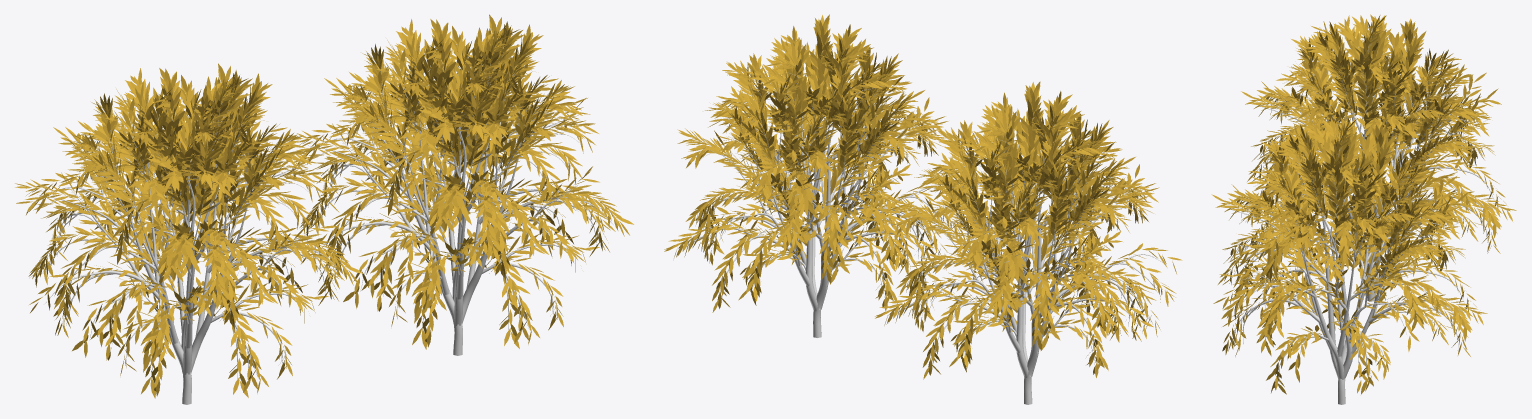
The model's file is villagetreesfbx.fbx.
The picture shows the model from 3 angles, left to right: view 1: azimuth 30°, elevation 25°; view 2: azimuth 150°, elevation 25°; view 3: azimuth 270°, elevation 25°; orthographic projection. The views are drawn at different scales.
Parts seen in each view (by area): view 1: leaves.027, leaves.019, tree.027; view 2: leaves.027, leaves.019, tree.027; view 3: leaves.019, leaves.027, tree.027.
Part boxes in pixels (x1,y1,x2,y2): leaves.027: [15, 63, 362, 398]; leaves.019: [287, 14, 633, 349]; tree.027: [37, 53, 613, 404]; leaves.027: [875, 81, 1182, 379]; leaves.019: [664, 14, 962, 312]; tree.027: [687, 49, 1166, 404]; leaves.019: [1211, 118, 1487, 394]; leaves.027: [1241, 14, 1516, 291]; tree.027: [1231, 38, 1500, 404].
Bounding box in the file's own units: 3422 × 2101 × 2060.
